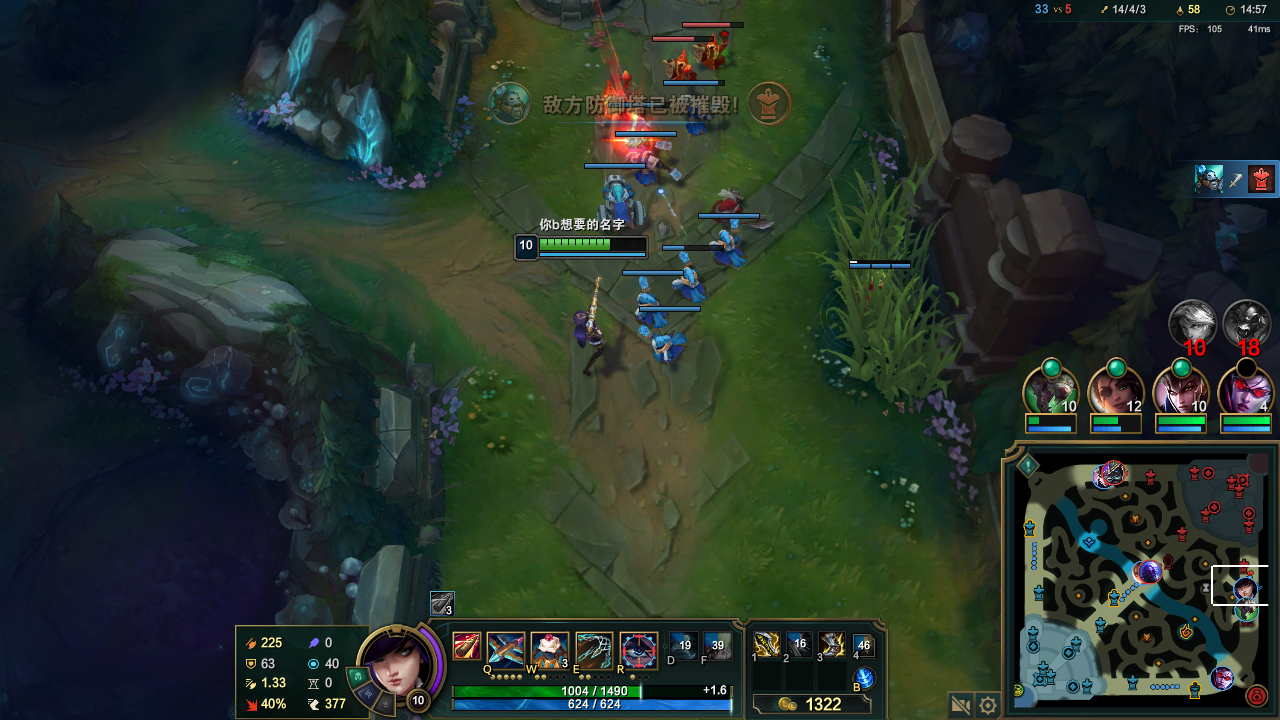DFXB: (693, 39, 731, 70), (667, 55, 694, 79)
WFXB: (594, 188, 646, 233), (705, 229, 750, 272), (645, 327, 701, 360), (627, 290, 665, 321), (629, 155, 669, 183), (683, 104, 718, 134), (674, 263, 705, 296)
